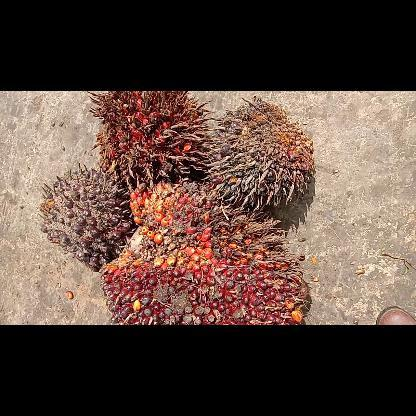Kurang masak: (38, 168, 136, 270)
TBS abnormal: (205, 97, 315, 210)
TBS masak: (101, 181, 310, 324)
Terlalu masak: (88, 91, 204, 183)
